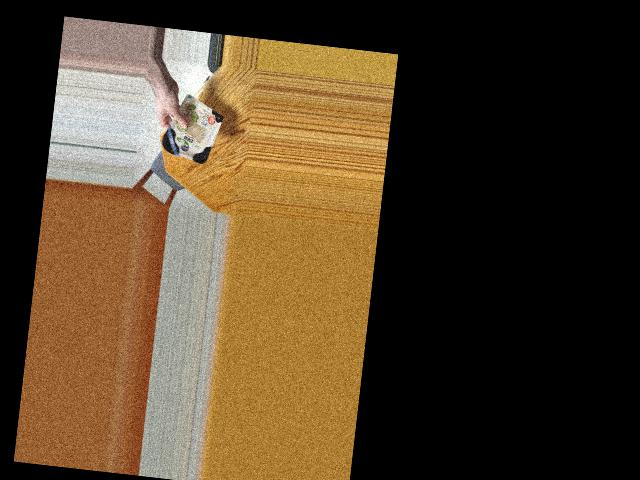cheese: (158, 102, 223, 166)
